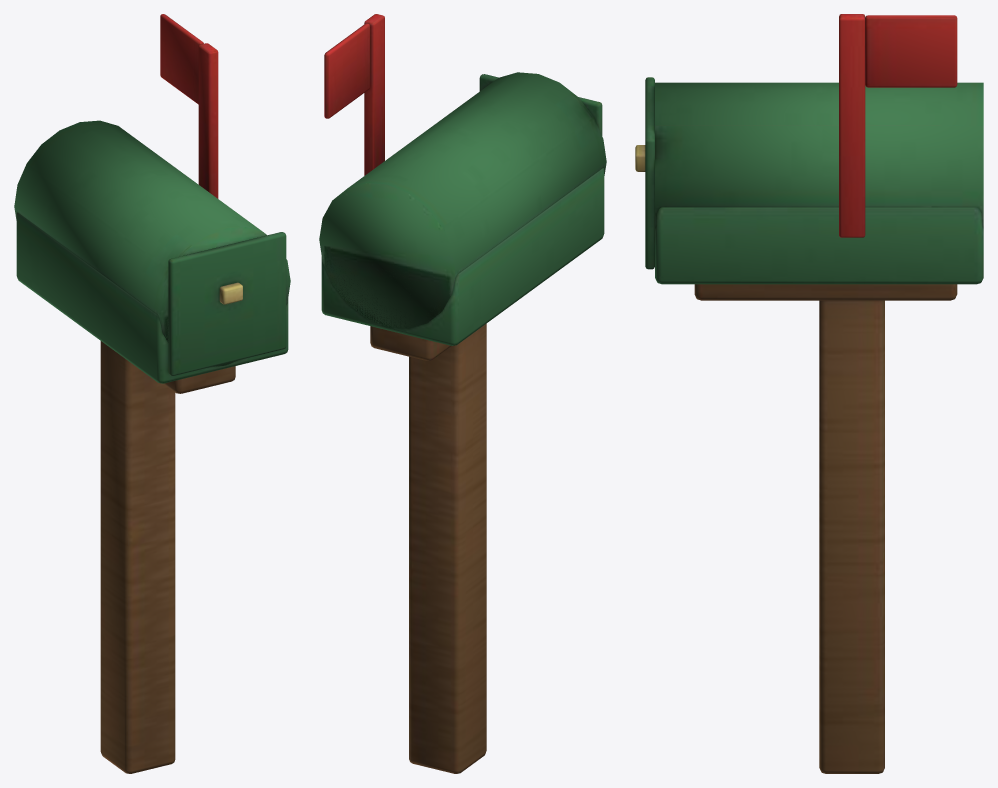
File: mailbox.glb
The picture shows the model from 3 angles, left to right: view 1: azimuth 30°, elevation 25°; view 2: azimuth 150°, elevation 25°; view 3: azimuth 270°, elevation 25°; orthographic projection. The views are drawn at different scales.
Visible parts, largest first — view 1: mailbox, mailbox_flag; view 2: mailbox, mailbox_flag; view 3: mailbox, mailbox_flag.
Boxes of the visible parts, box(x1,y1,x2,y2) form: mailbox: box(14, 120, 290, 773); mailbox_flag: box(160, 14, 218, 198); mailbox: box(319, 72, 606, 773); mailbox_flag: box(324, 14, 384, 175); mailbox: box(635, 77, 983, 773); mailbox_flag: box(839, 14, 957, 237).
Size of the model in its own units: 0.28 by 1.32 by 0.53.
5 materials, 5 textured.
